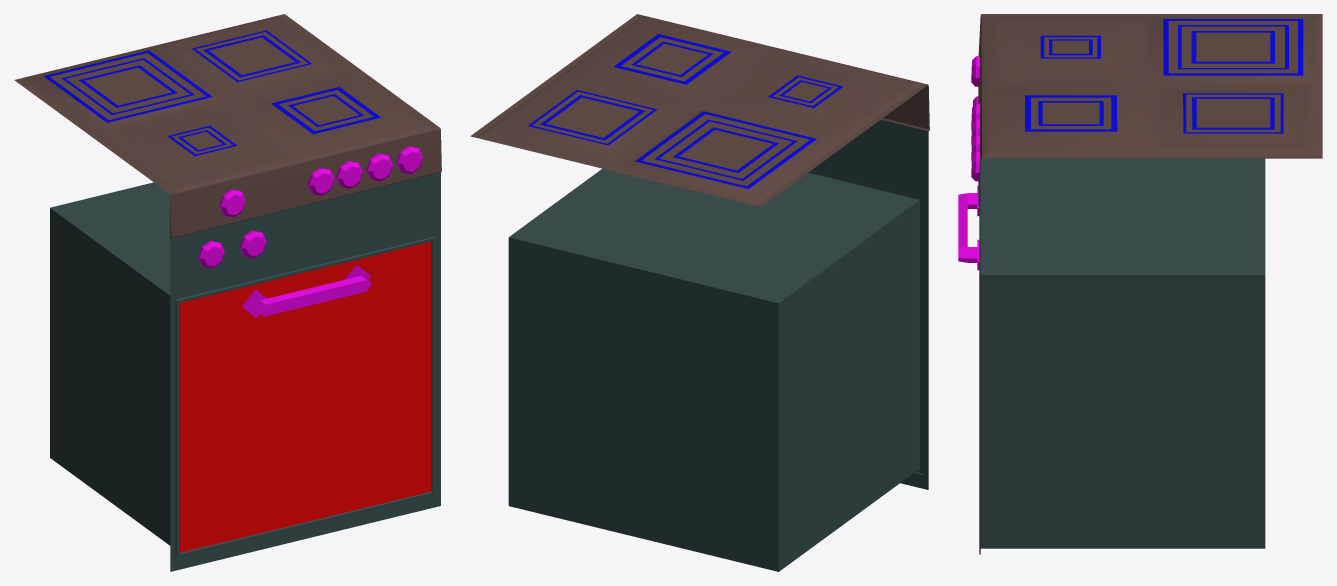
Rendered from Hornovitro.fbx.
The picture shows the model from 3 angles, left to right: view 1: azimuth 30°, elevation 25°; view 2: azimuth 150°, elevation 25°; view 3: azimuth 270°, elevation 25°; orthographic projection. The views are drawn at different scales.
Visible parts, largest first — view 1: Horno_vitro; view 2: Horno_vitro; view 3: Horno_vitro.
Boxes of the visible parts, bbox=[...] form: Horno_vitro: bbox=[14, 14, 441, 571]; Horno_vitro: bbox=[470, 14, 929, 571]; Horno_vitro: bbox=[958, 14, 1322, 554].
Size of the model in its own units: 75 by 101 by 79.89.
